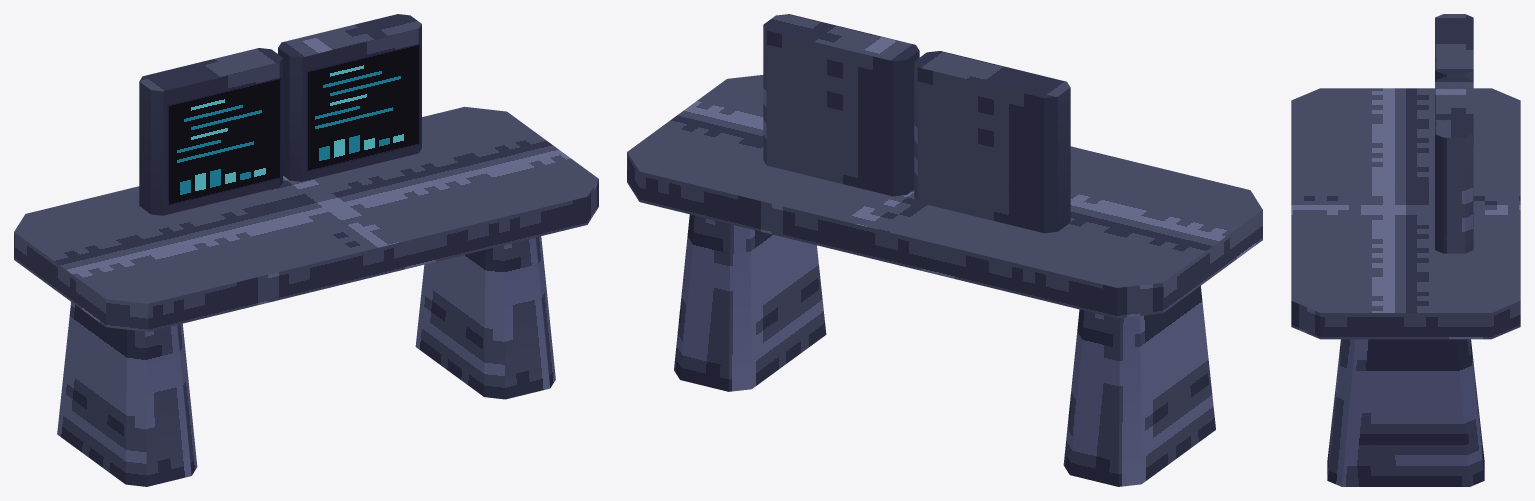
Rendered from cyroom.desk.glb.
3 renders of one model, left to right at view 1: azimuth 30°, elevation 25°; view 2: azimuth 150°, elevation 25°; view 3: azimuth 270°, elevation 25°, orthographic. The views are drawn at different scales.
Visible parts, largest first — view 1: kit_body, kit_card_details; view 2: kit_body; view 3: kit_body.
Boxes of the visible parts, box(x1,y1,x2,y2) form: kit_body: box(14, 14, 598, 486); kit_card_details: box(167, 43, 420, 205); kit_body: box(627, 14, 1262, 486); kit_body: box(1291, 14, 1520, 486).
Size of the model in its own units: 2.2 by 1.43 by 0.95.
Materials: 4 (4 with a texture image).
